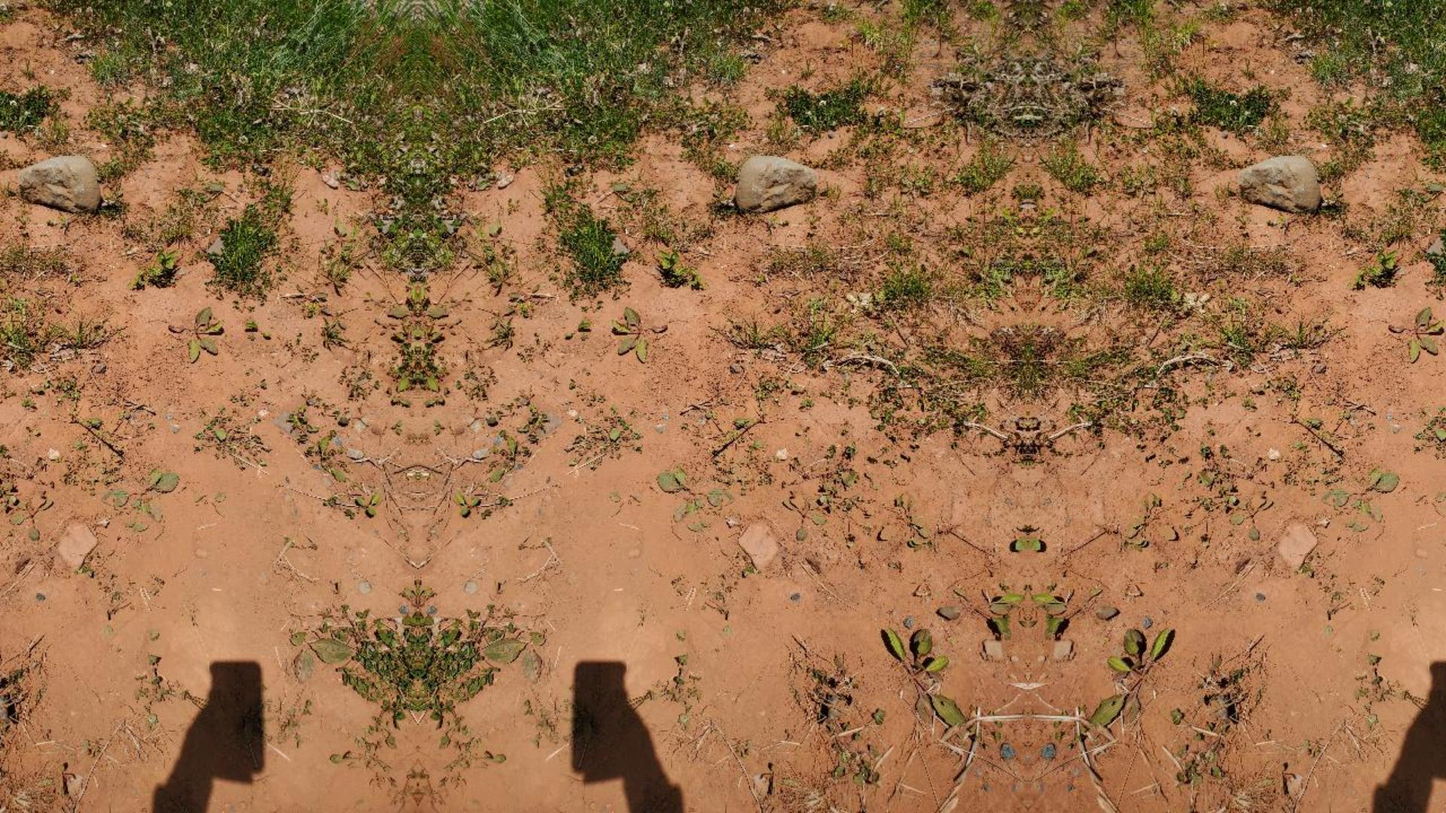rock: (17, 156, 101, 212), (1239, 155, 1322, 211), (733, 156, 816, 211)
